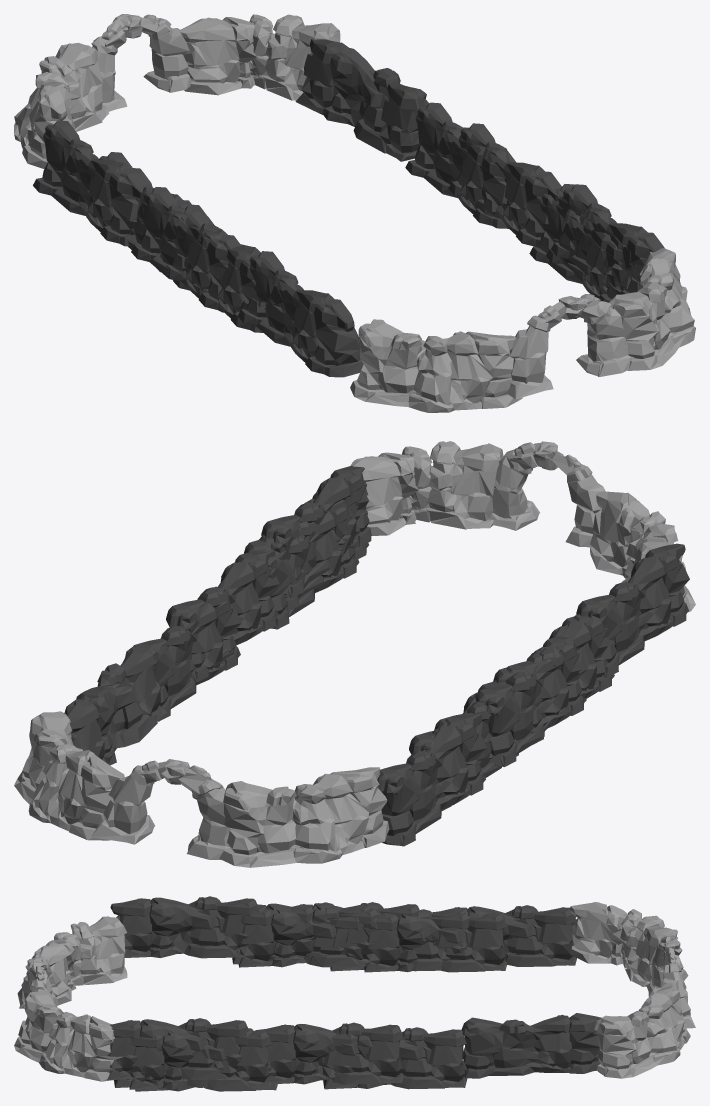
File: rocks2.glb
3 views of the same model, one above another, from view 1: azimuth 30°, elevation 25°; view 2: azimuth 150°, elevation 25°; view 3: azimuth 270°, elevation 25° (orthographic). The views are drawn at different scales.
Parts seen in each view (by area): view 1: rockform.corner.soft.light.001, rockform.corner.soft.light.003, rockform.wall.long.dark.013, rockform.wall.long.dark.003, rockform.wall.long.dark.014, rockform.arch.light, rockform.corner.soft.light.002, rockform.corner.soft.light, rockform.wall.long.dark.011, rockform.wall.long.dark.009, rockform.wall.long.dark.010, rockform.arch.light.001 (+5 smaller); view 2: rockform.corner.soft.light.002, rockform.corner.soft.light, rockform.wall.long.dark.014, rockform.corner.soft.light.003, rockform.wall.long.dark.003, rockform.wall.long.dark.013, rockform.wall.long.dark.009, rockform.arch.light.001, rockform.arch.light, rockform.wall.long.dark.011, rockform.wall.long.dark.010, rockform.corner.soft.light.001 (+6 smaller); view 3: rockform.wall.long.dark.013, rockform.wall.long.dark.003, rockform.wall.long.dark.010, rockform.wall.long.dark.007, rockform.corner.soft.light, rockform.corner.soft.light.003, rockform.corner.soft.light.002, rockform.wall.long.dark.005, rockform.wall.long.dark.011, rockform.wall.long.dark.006, rockform.corner.soft.light.001, rockform.wall.long.dark (+8 smaller).
Part boxes in pixels (box(x1,y1,x2,y2)): rockform.corner.soft.light.001: box(350, 319, 522, 412); rockform.corner.soft.light.003: box(179, 14, 340, 100); rockform.wall.long.dark.013: box(295, 39, 429, 161); rockform.wall.long.dark.003: box(237, 251, 363, 377); rockform.wall.long.dark.014: box(33, 120, 147, 246); rockform.arch.light: box(507, 294, 634, 399); rockform.corner.soft.light.002: box(14, 42, 109, 168); rockform.corner.soft.light: box(609, 248, 695, 370); rockform.wall.long.dark.011: box(405, 102, 516, 228); rockform.wall.long.dark.009: box(131, 187, 240, 312); rockform.wall.long.dark.010: box(448, 123, 561, 248); rockform.arch.light.001: box(91, 14, 192, 111); rockform.corner.soft.light.002: box(219, 767, 389, 867); rockform.corner.soft.light: box(350, 441, 503, 535); rockform.wall.long.dark.014: box(377, 713, 486, 846); rockform.corner.soft.light.003: box(14, 711, 124, 840); rockform.wall.long.dark.003: box(576, 543, 689, 677); rockform.wall.long.dark.013: box(64, 646, 166, 765); rockform.wall.long.dark.009: box(475, 636, 586, 766); rockform.arch.light.001: box(91, 759, 232, 860); rockform.arch.light: box(489, 441, 605, 547); rockform.wall.long.dark.011: box(133, 596, 241, 721); rockform.wall.long.dark.010: box(166, 549, 279, 682); rockform.corner.soft.light.001: box(590, 491, 695, 612); rockform.wall.long.dark.013: box(461, 1013, 601, 1078); rockform.wall.long.dark.003: box(110, 896, 257, 958); rockform.wall.long.dark.010: box(256, 1022, 403, 1084); rockform.wall.long.dark.007: box(364, 912, 507, 972); rockform.corner.soft.light: box(14, 990, 123, 1081); rockform.corner.soft.light.003: box(594, 983, 690, 1078); rockform.corner.soft.light.002: box(570, 902, 688, 986); rockform.wall.long.dark.005: box(238, 906, 379, 967); rockform.wall.long.dark.011: box(318, 1027, 467, 1089); rockform.wall.long.dark.006: box(129, 1029, 271, 1089); rockform.corner.soft.light.001: box(34, 916, 127, 1005); rockform.wall.long.dark: box(107, 1018, 248, 1080).
Bounding box in the file's own units: 92.6 × 22.53 × 190.
Materials: 2 (2 with a texture image).
